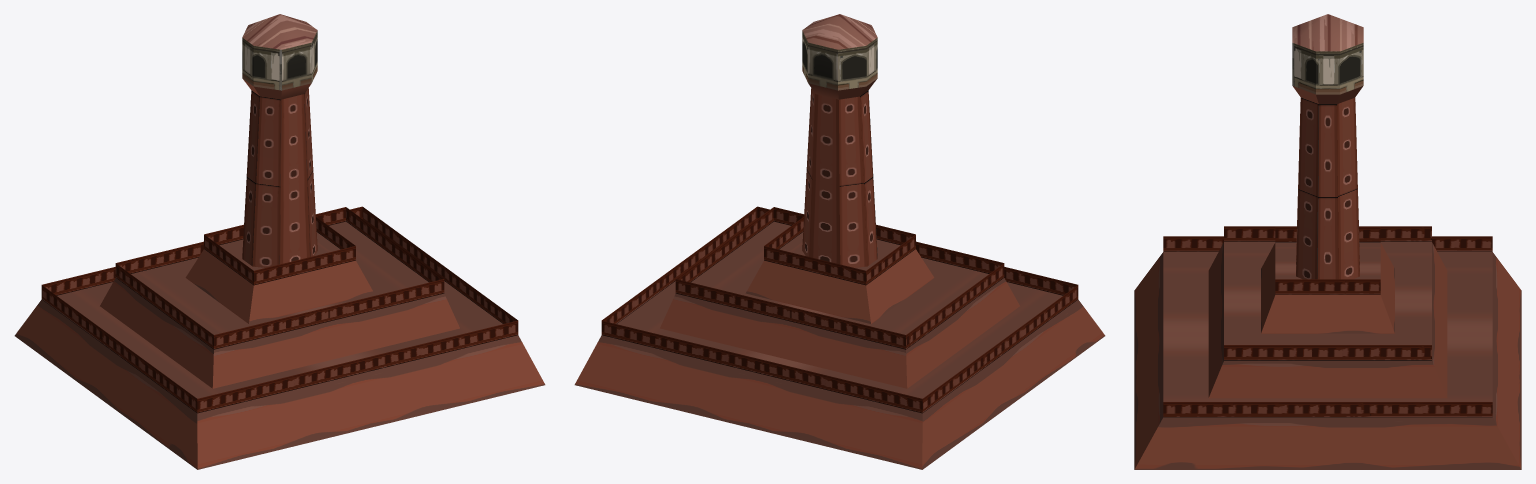
Rendered from SM_Citadel_02.fbx.
3 renders of one model, left to right at view 1: azimuth 30°, elevation 25°; view 2: azimuth 150°, elevation 25°; view 3: azimuth 270°, elevation 25°, orthographic. The views are drawn at different scales.
Visible parts, largest first — view 1: SM_Citadel_02; view 2: SM_Citadel_02; view 3: SM_Citadel_02.
Part boxes in pixels (bbox=[...]): SM_Citadel_02: bbox=[14, 14, 545, 469]; SM_Citadel_02: bbox=[574, 14, 1105, 469]; SM_Citadel_02: bbox=[1134, 14, 1521, 469].
Bounding box in the file's own units: 27.87 × 26.52 × 25.41.
